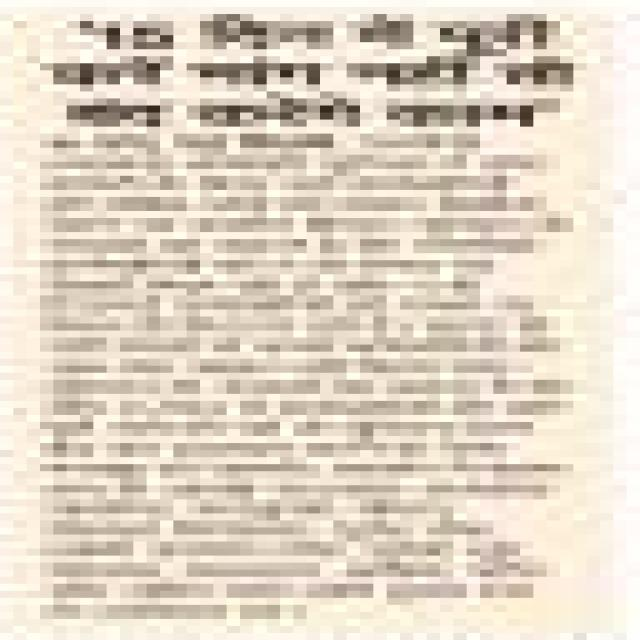paper: (13, 7, 640, 640)
